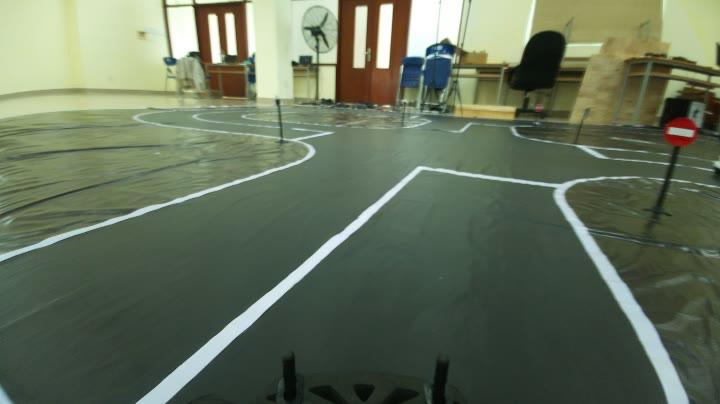no_entry: (662, 110, 698, 146)
